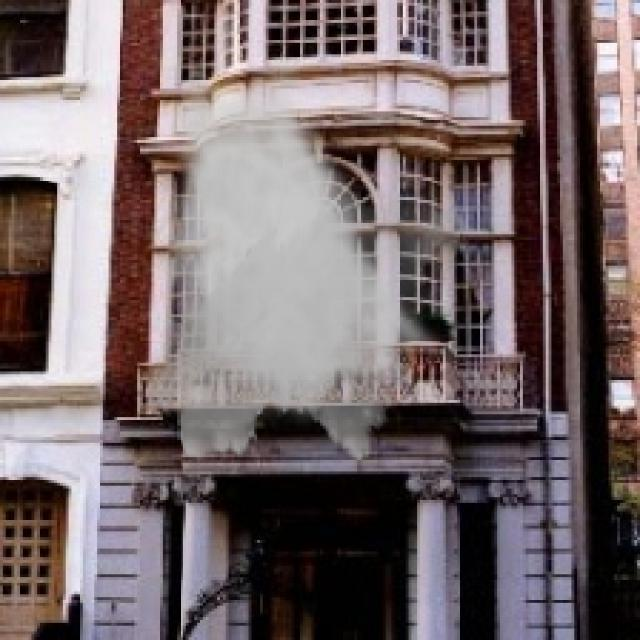Smoke: (134, 59, 477, 472)
